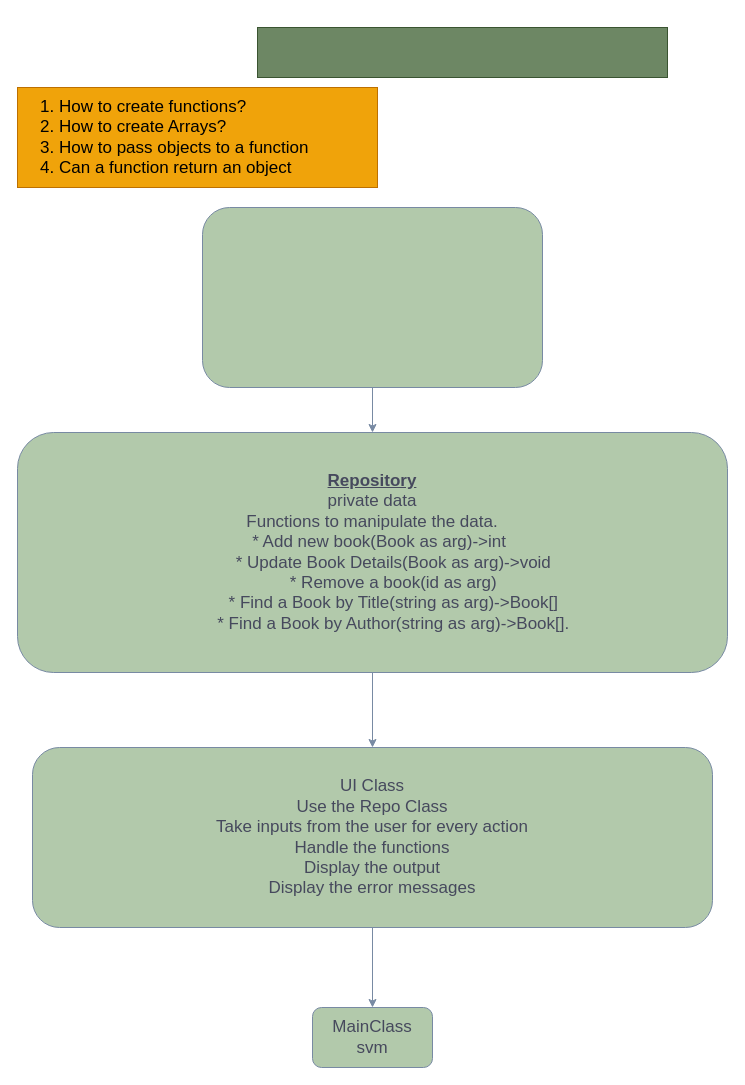
Some shapes in this 745 by 1085 pixel diagram are drawn without their labels. Here are the shapes that lost their labels. From the top down, the centre of each, then its label:
At (462,52): "Single Responsibility Principle".
At (372,297): "Entity. BookId Title Author Price Publisher".
